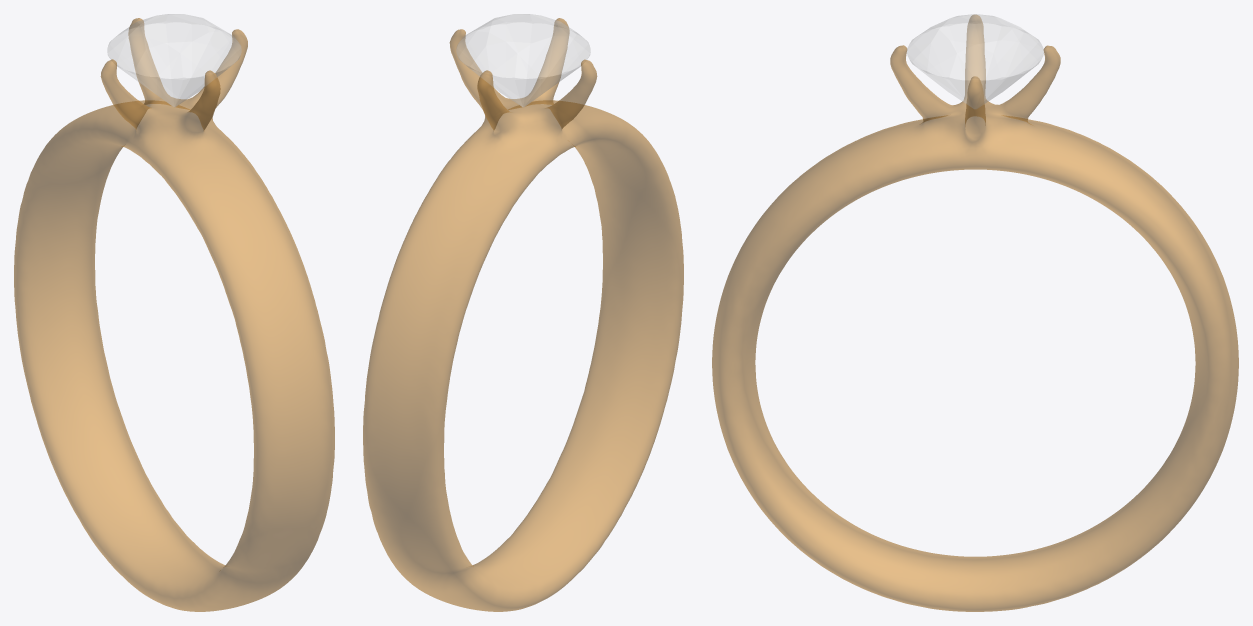
3 renders of one model, left to right at view 1: azimuth 30°, elevation 25°; view 2: azimuth 150°, elevation 25°; view 3: azimuth 270°, elevation 25°, orthographic.
Visible parts, largest first — view 1: dobj; view 2: dobj; view 3: dobj.
Boxes of the visible parts, x1,y1,x2,y2 form: dobj: (14,14,334,611); dobj: (363,14,683,611); dobj: (712,14,1238,611).
Size of the model in its own units: 0.7612 by 2.82 by 2.35.
